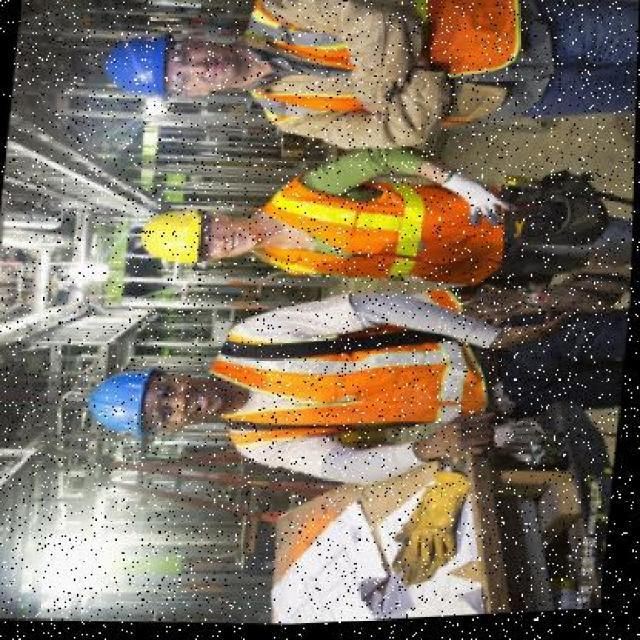helmet: (85, 360, 159, 444), (100, 25, 172, 100), (140, 206, 204, 268)
vest: (228, 0, 536, 160), (208, 313, 498, 466), (255, 168, 519, 302)
